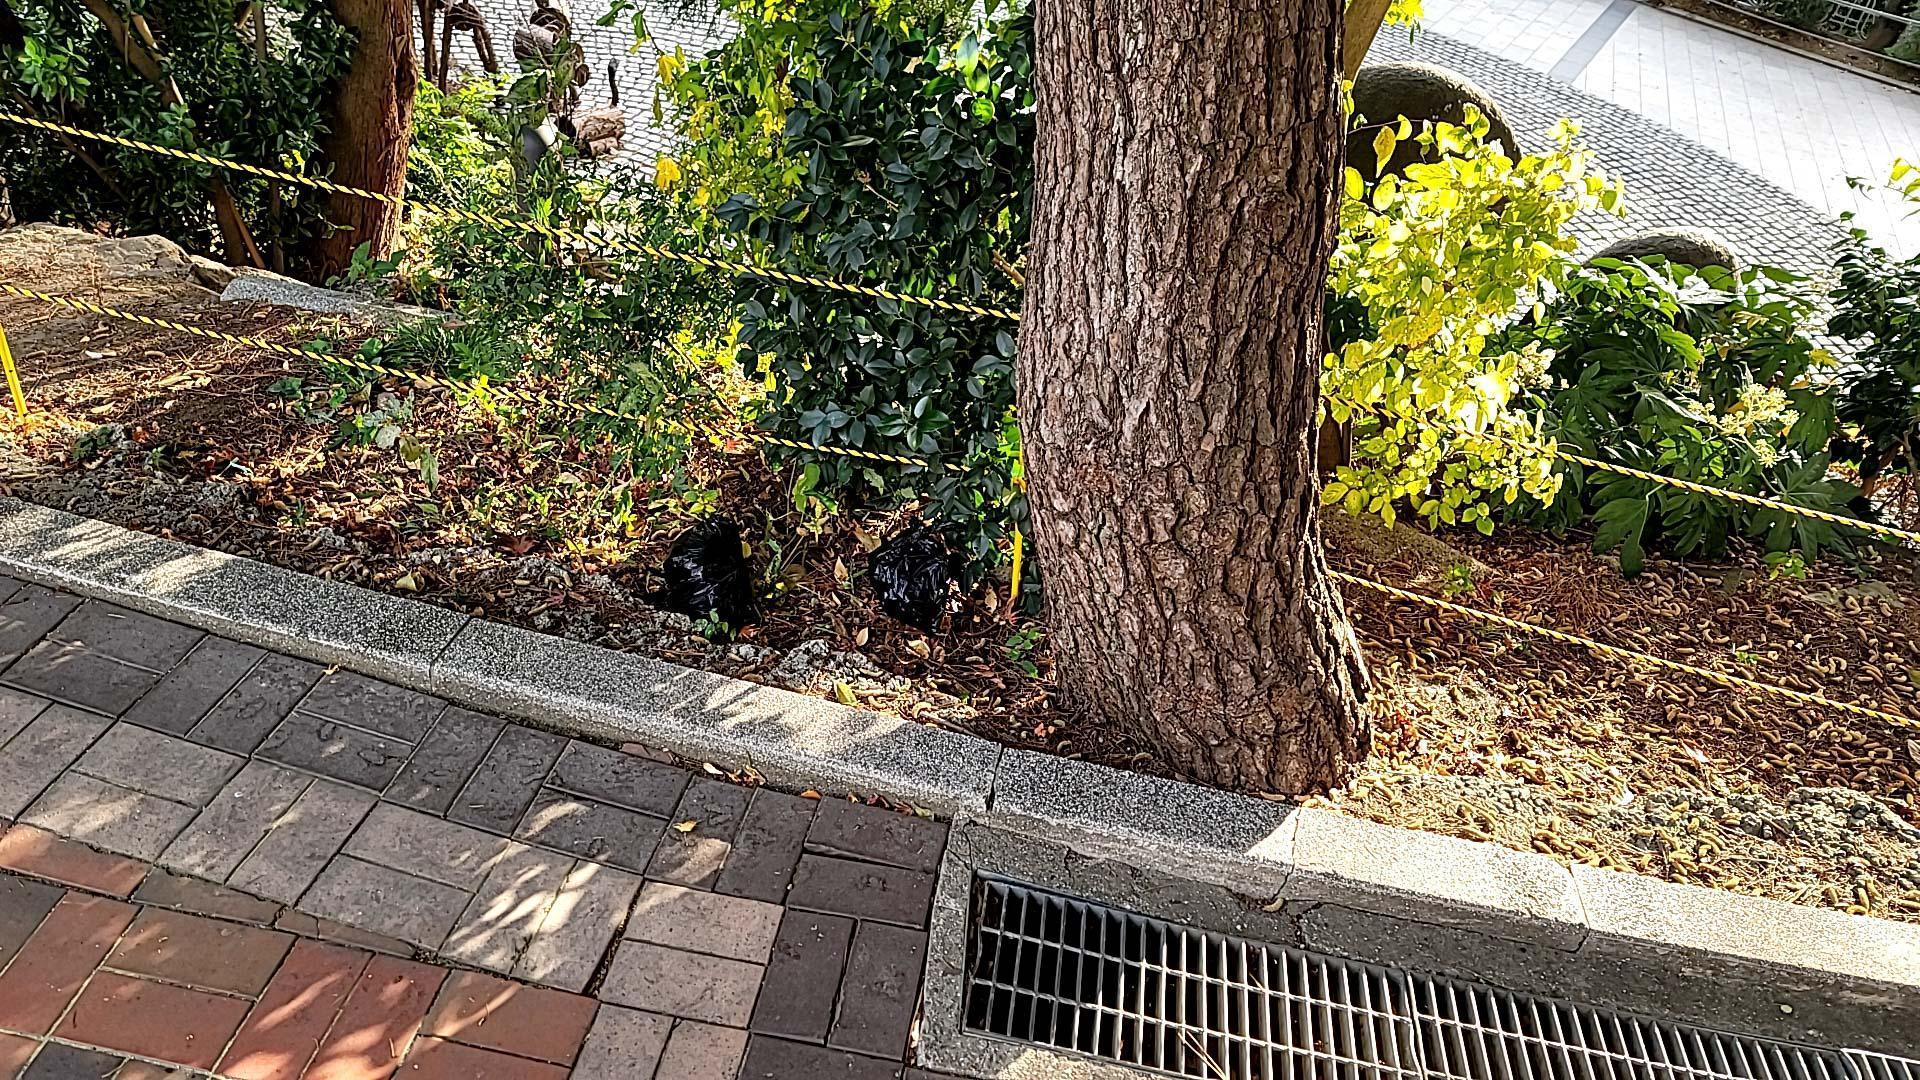black_bag: (862, 506, 1015, 640), (655, 520, 765, 640)
